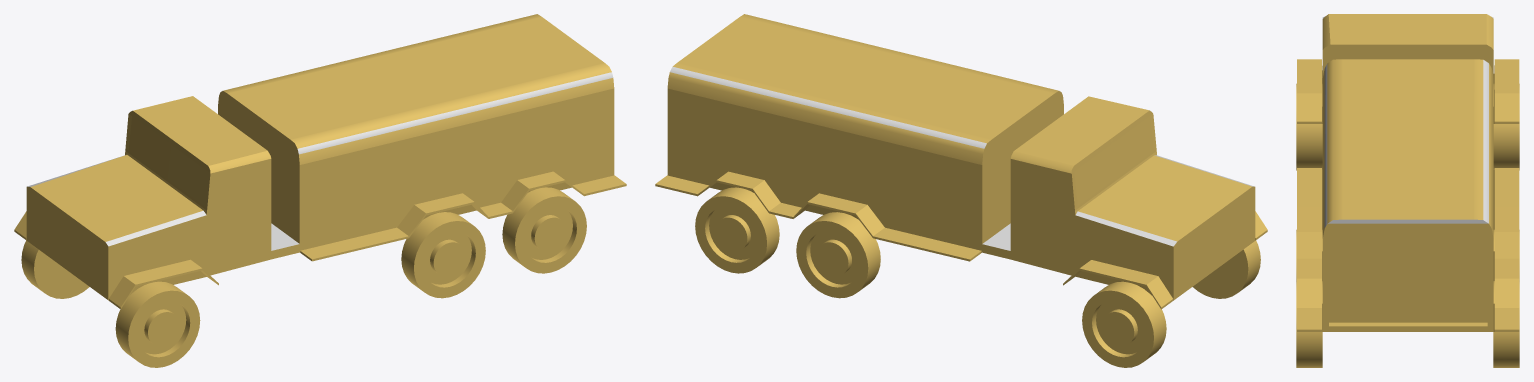
File: truck.fbx
3 renders of one model, left to right at view 1: azimuth 30°, elevation 25°; view 2: azimuth 150°, elevation 25°; view 3: azimuth 270°, elevation 25°, orthographic. The views are drawn at different scales.
Parts seen in each view (by area): view 1: Cube; view 2: Cube; view 3: Cube.
Part boxes in pixels (box(x1,y1,x2,y2)): Cube: box(14, 14, 626, 367); Cube: box(655, 14, 1267, 367); Cube: box(1296, 14, 1519, 367).
Bounding box in the file's own units: 1686 × 558 × 616.
